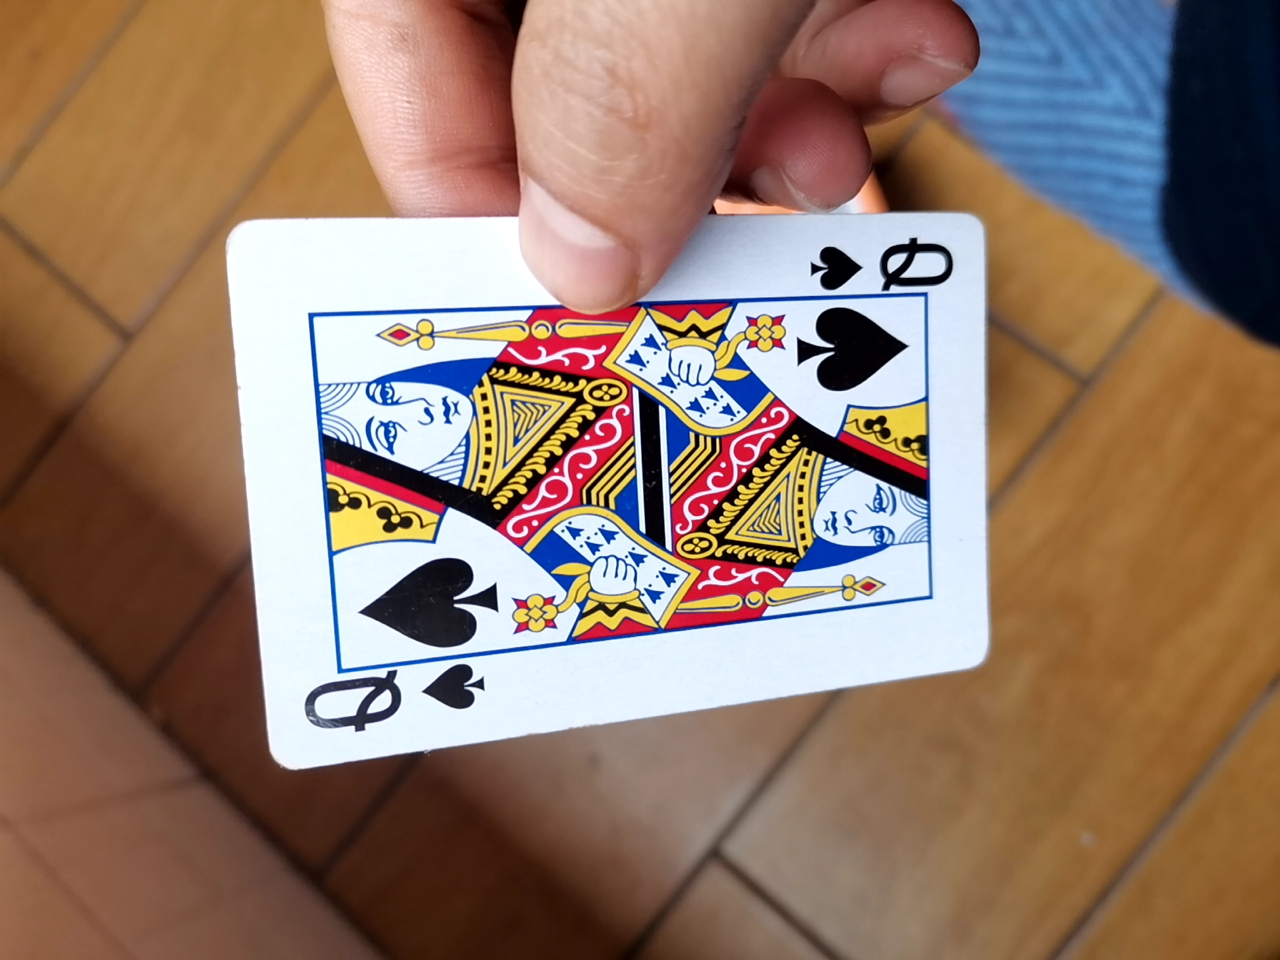ht q: (222, 193, 1003, 772)
